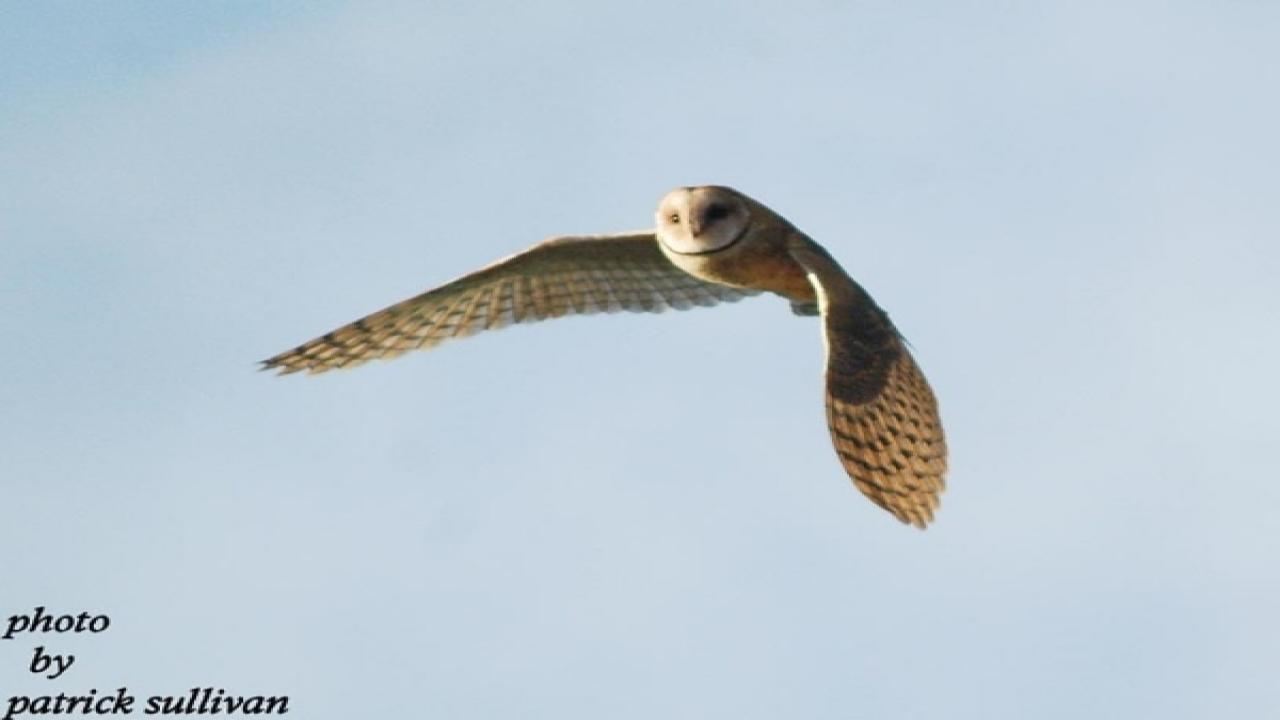Bird: (239, 177, 964, 535)
